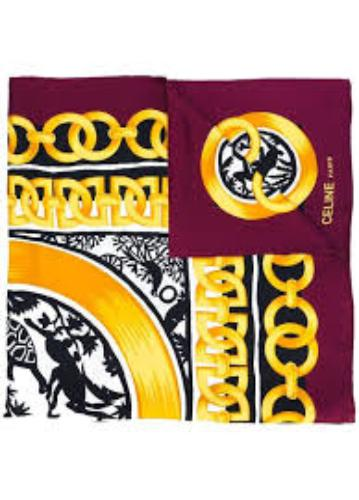CELINE: (314, 173, 338, 231)
